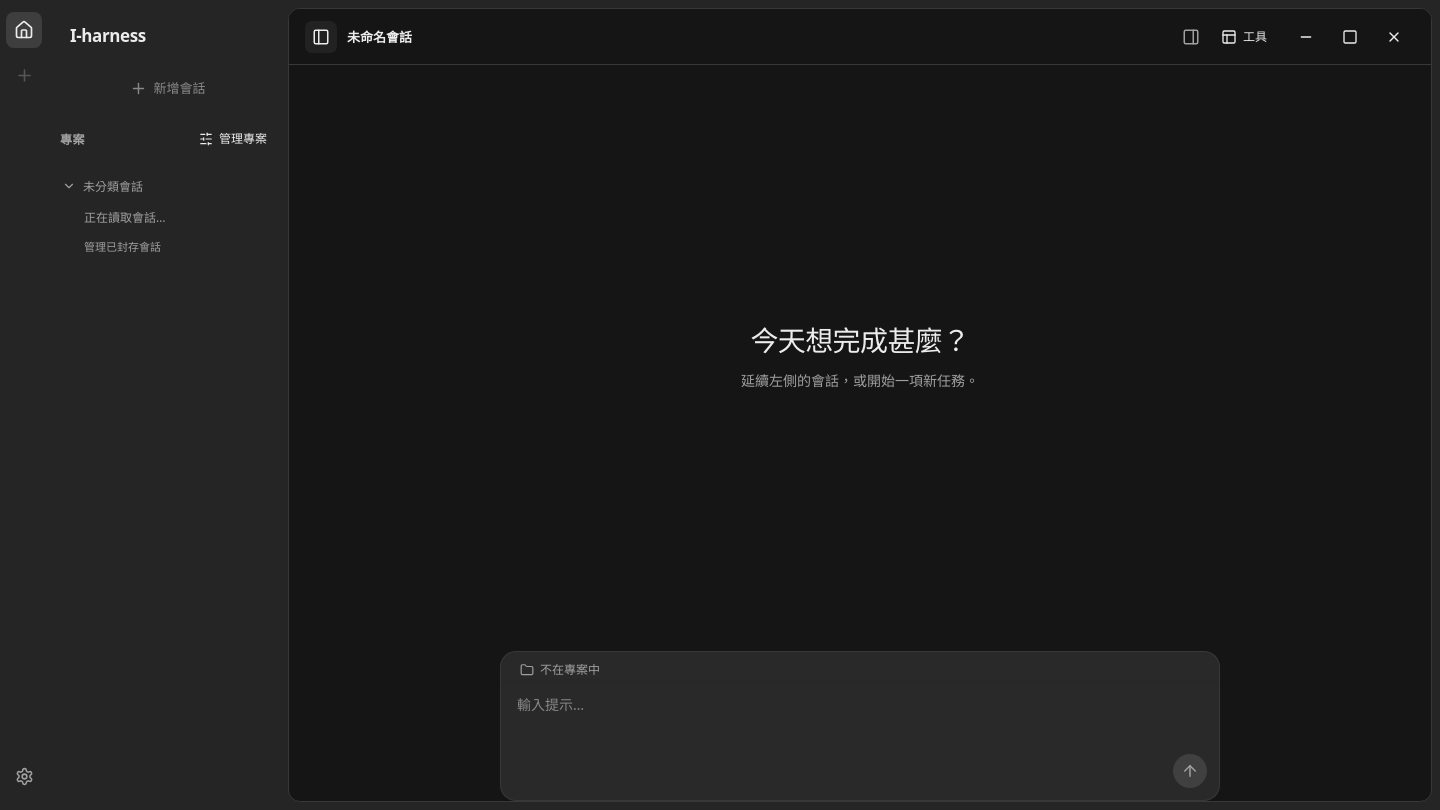
Test: mounts execution and process entry points against the selected owning session
The width and height of the screenshot is (1440, 810).
Click the button with aria-label "工作台工具".
click(1244, 36)  # box top-left (1213, 20), bottom-right (1275, 52)
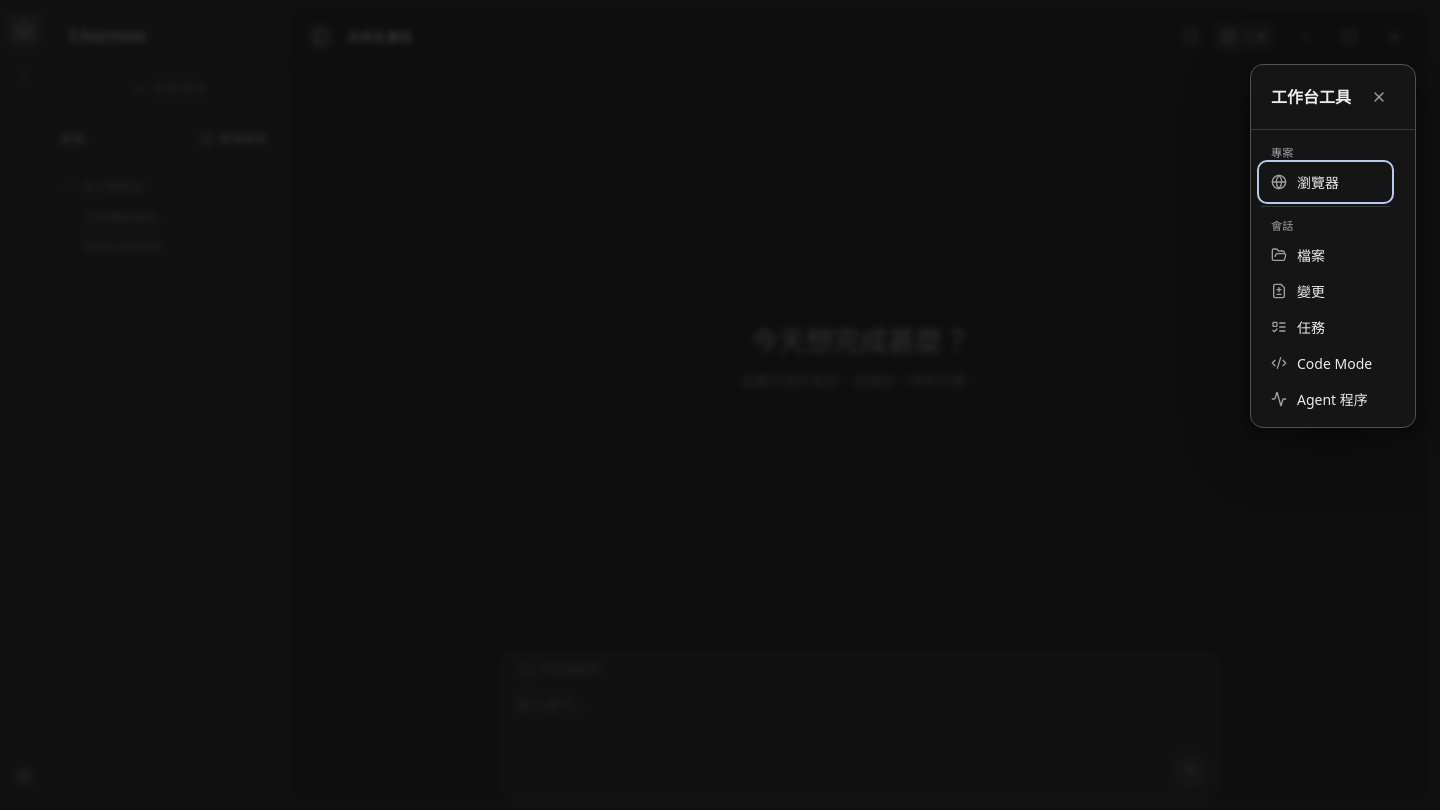
Click the button "Code Mode".
click(1326, 363)  # box top-left (1261, 345), bottom-right (1390, 381)
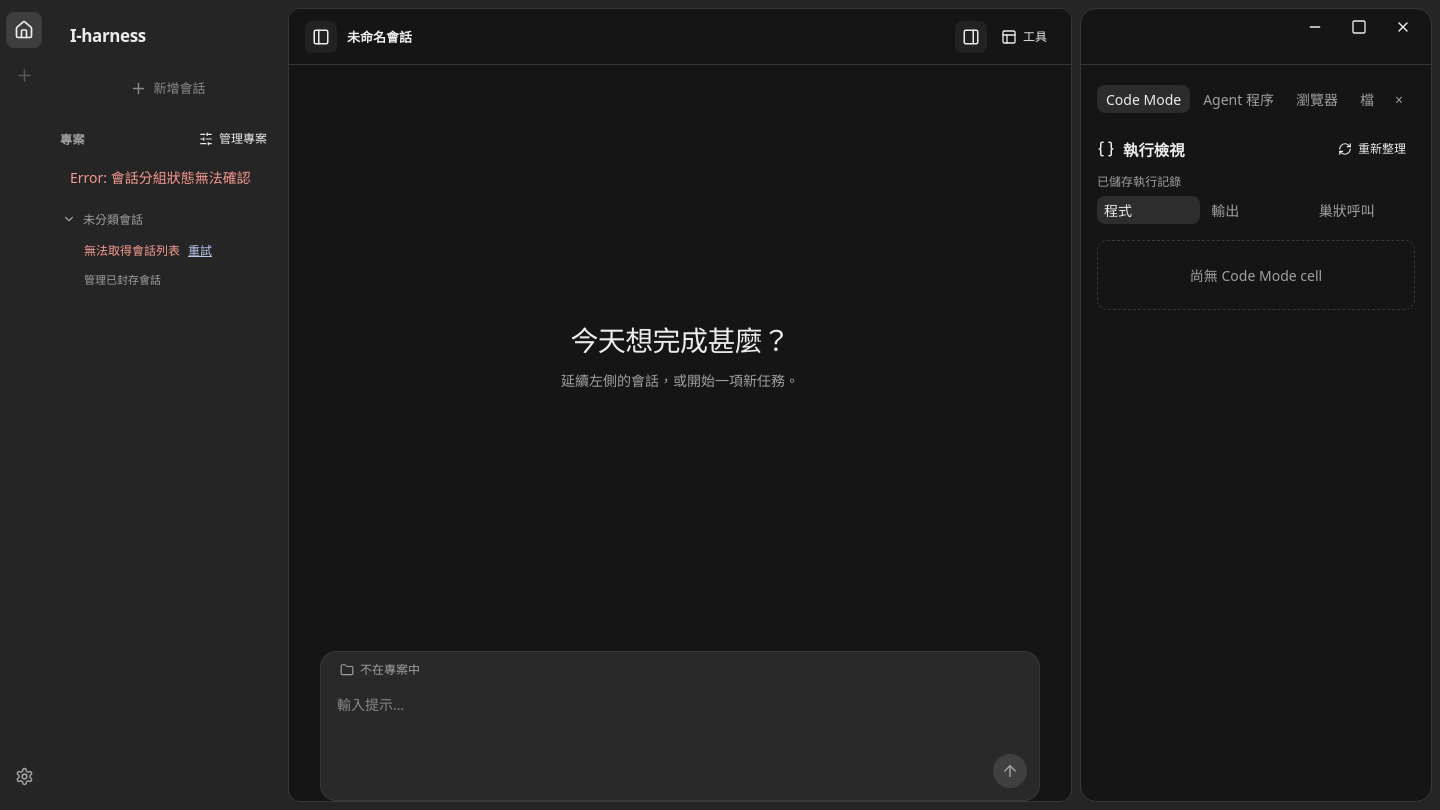
Expected: the text "尚無 Code Mode cell" is shown, top-left (1097, 240), bottom-right (1415, 310)
Click the button with aria-label "工作台工具".
click(1024, 36)  # box top-left (993, 20), bottom-right (1055, 52)
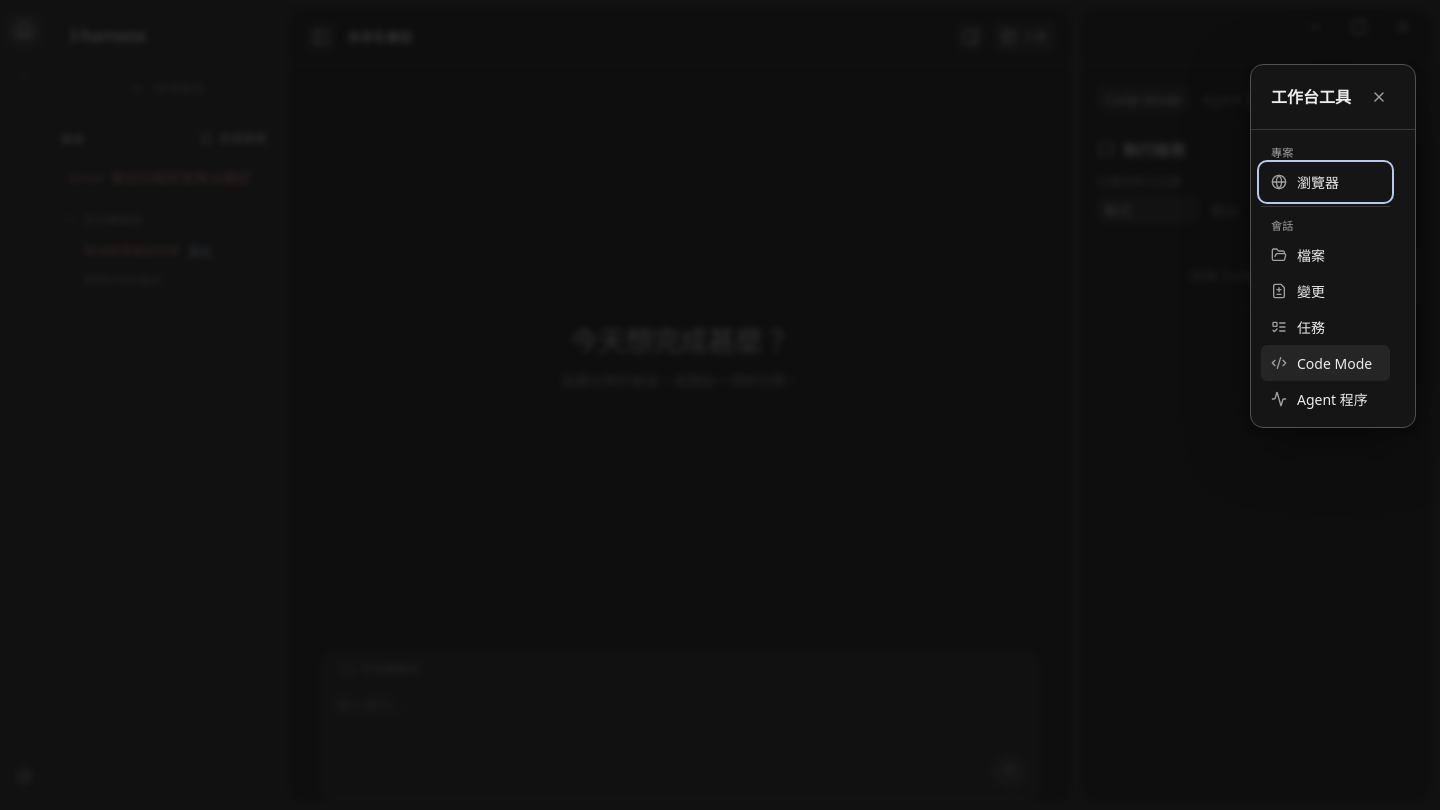
Click the button "Agent 程序".
click(1326, 399)  # box top-left (1261, 381), bottom-right (1390, 417)
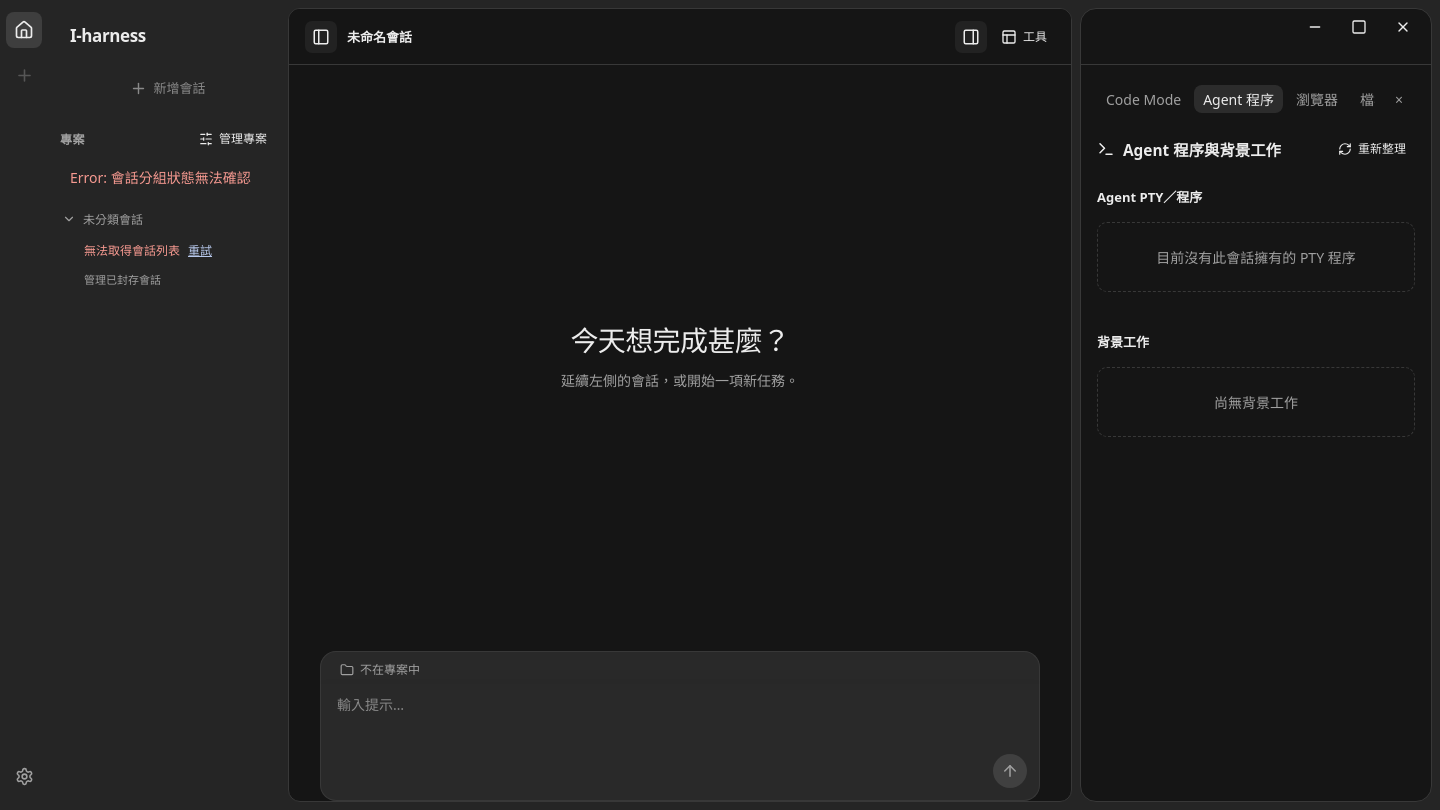
Expected: the text "目前沒有此會話擁有的 PTY 程序" is shown, top-left (1097, 222), bottom-right (1415, 292)
